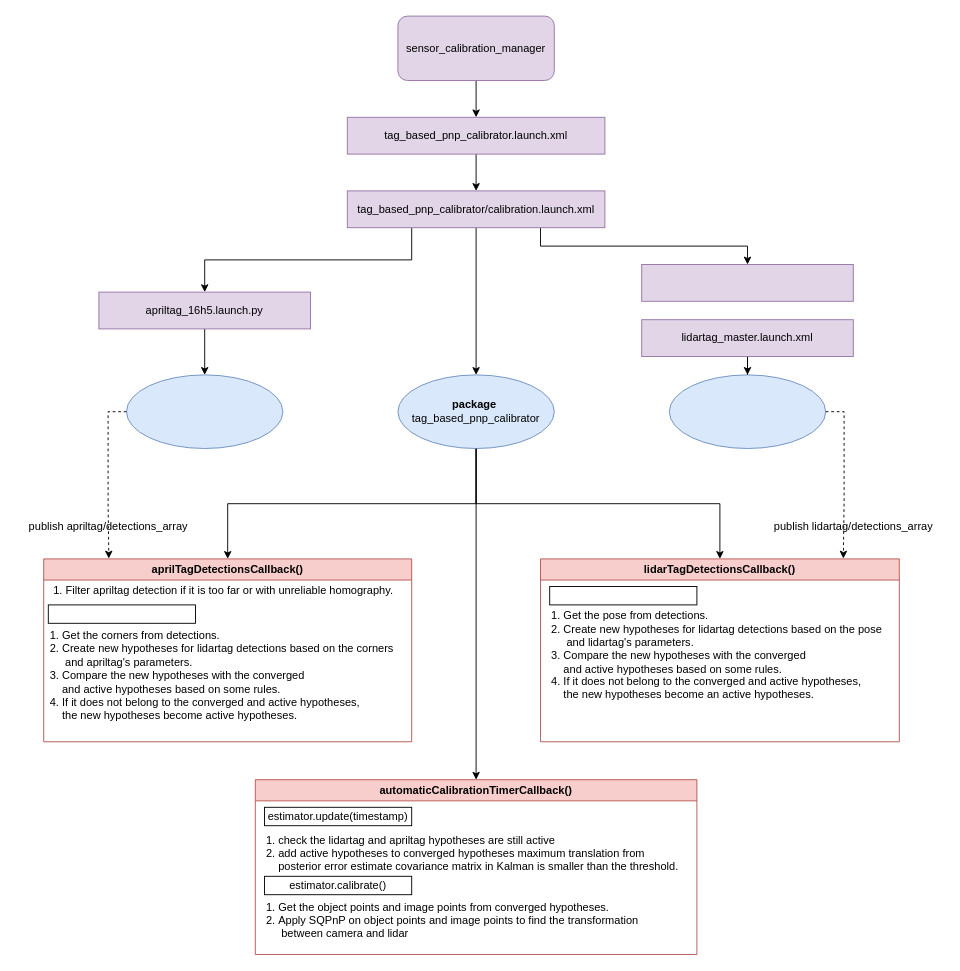
This 960x971 diagram has some shape labels left out. Here are the shapes that lost their labels. From the top down, the centre of each, then its label:
At (x=747, y=282): "lidartag_pandar_40p.launch.py".
At (x=204, y=411): "package apriltag_ros".
At (x=747, y=411): "package lidartag".
At (x=121, y=613): "estimator.update(apriltag)".
At (x=623, y=595): "estimator.update(lidartag)".
